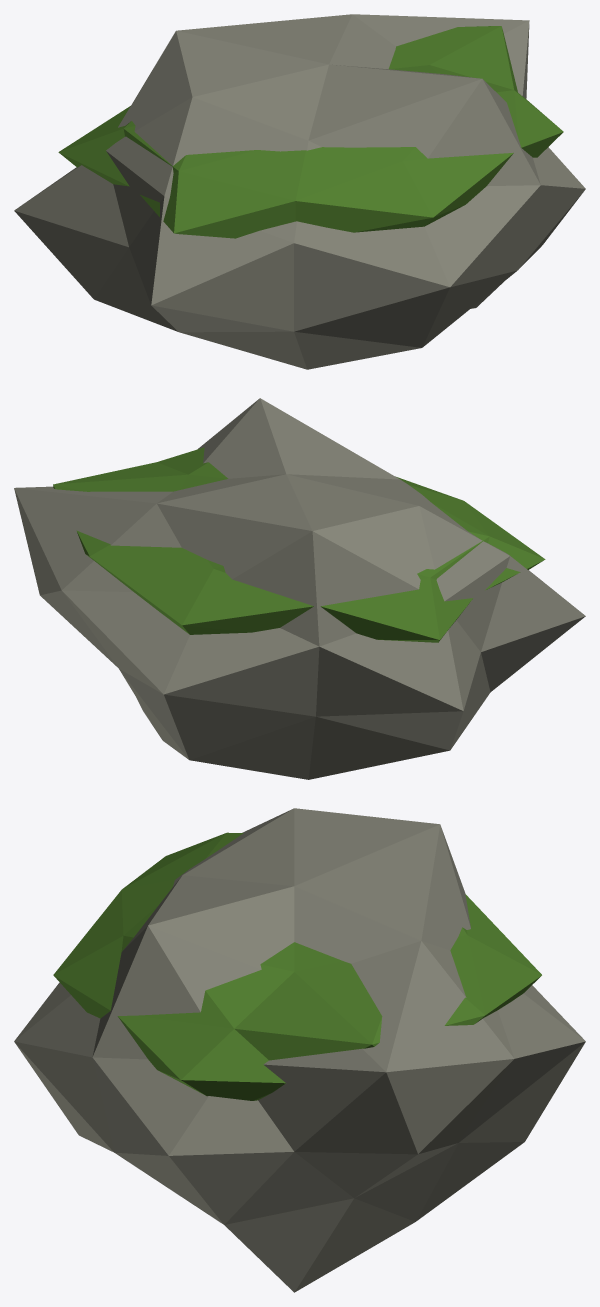
The model's file is rock_moss.glb.
3 views of the same model, one above another, from view 1: azimuth 30°, elevation 25°; view 2: azimuth 150°, elevation 25°; view 3: azimuth 270°, elevation 25° (orthographic). The views are drawn at different scales.
Parts seen in each view (by area): view 1: stone-col, moss; view 2: stone-col, moss; view 3: stone-col, moss.
Part boxes in pixels (x1,y1,x2,y2): stone-col: (14,14,585,369); moss: (58,26,563,238); stone-col: (14,398,585,779); moss: (53,447,545,642); stone-col: (14,808,585,1292); moss: (53,832,541,1100).
Size of the model in its own units: 2.41 by 1.36 by 2.11.
